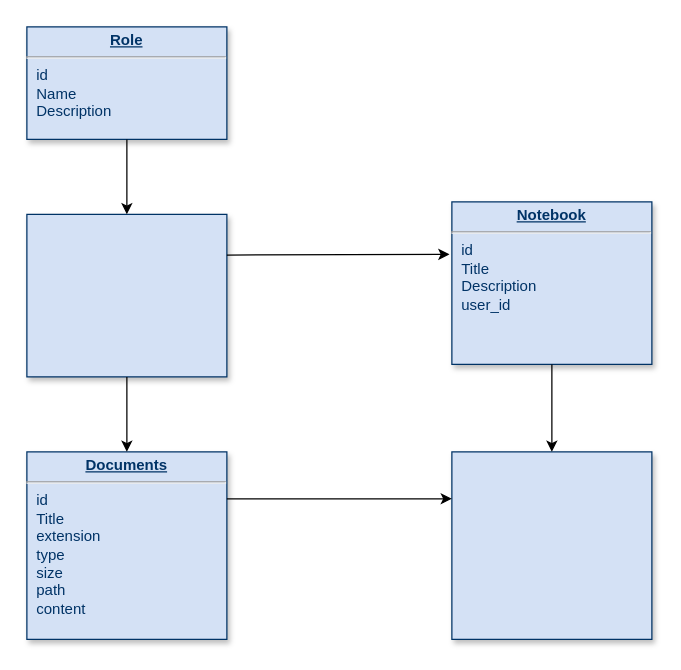
The diagram is 681 pixels wide and 670 high, and some of its shapes have lost their labels. Each missing label, with the centre of its shape:
"Notes id title content html_content user_id document_id notebook_id user_id" belongs at point (552, 547).
"User id firstname lastname username password role_id" belongs at point (127, 297).
